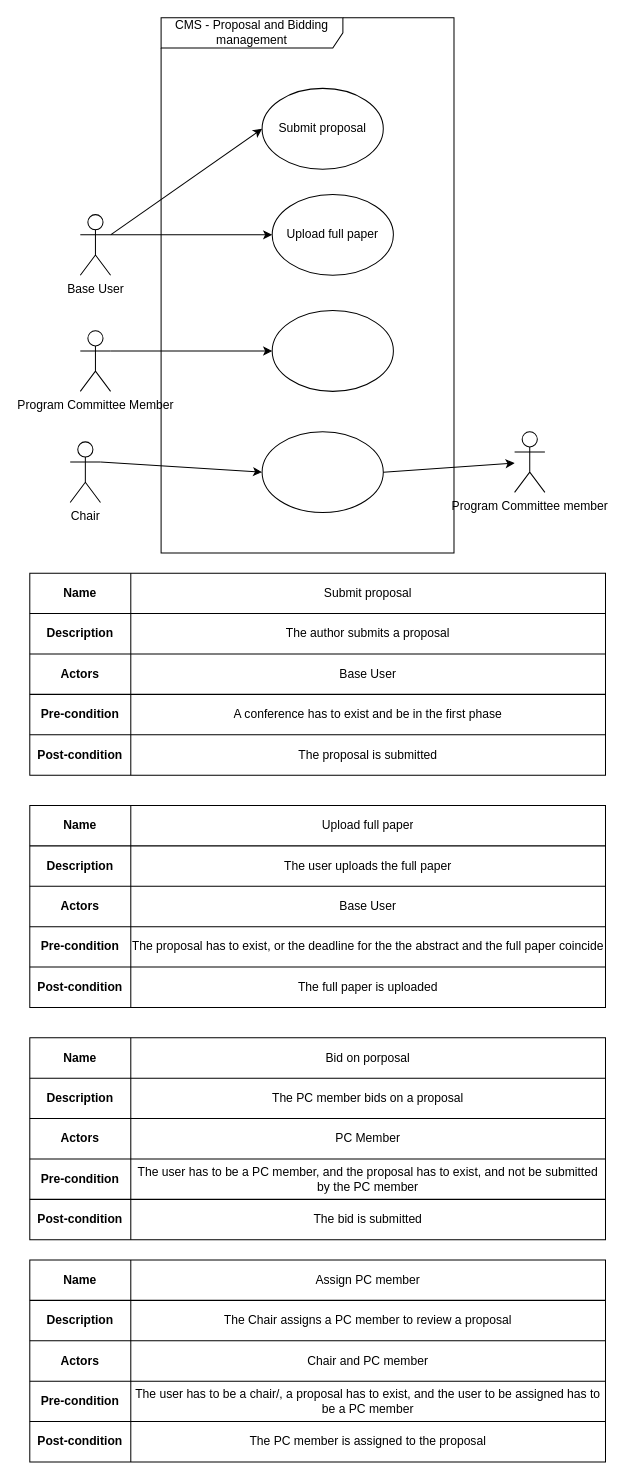
Image size: 625x1480. Some labels were removed from this diagram. The centre of each missing label's shape, as x and y in pixels:
Assign PC member for review: point 322,472
Bid on proposal: point 332,350
